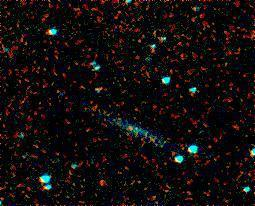star: (116, 110, 146, 140)
